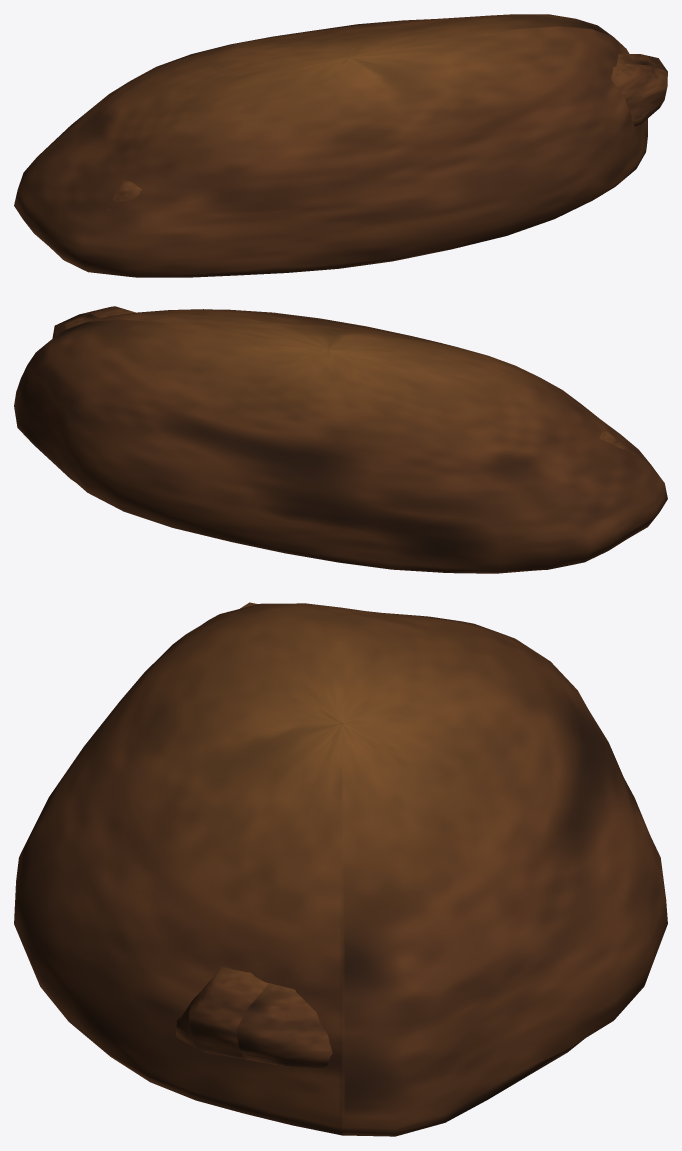
Rendered from home_stage_hill.obj.
3 views of the same model, one above another, from view 1: azimuth 30°, elevation 25°; view 2: azimuth 150°, elevation 25°; view 3: azimuth 270°, elevation 25° (orthographic). The views are drawn at different scales.
Parts seen in each view (by area): view 1: home_hill_mound; view 2: home_hill_mound; view 3: home_hill_mound.
Part boxes in pixels (left/top/right/bottom): home_hill_mound: left=14, top=14, right=667, bottom=277; home_hill_mound: left=14, top=306, right=667, bottom=573; home_hill_mound: left=14, top=602, right=667, bottom=1136.
Bounding box in the file's own units: 9.72 × 2.05 × 5.83.
Materials: 1 (1 with a texture image).
